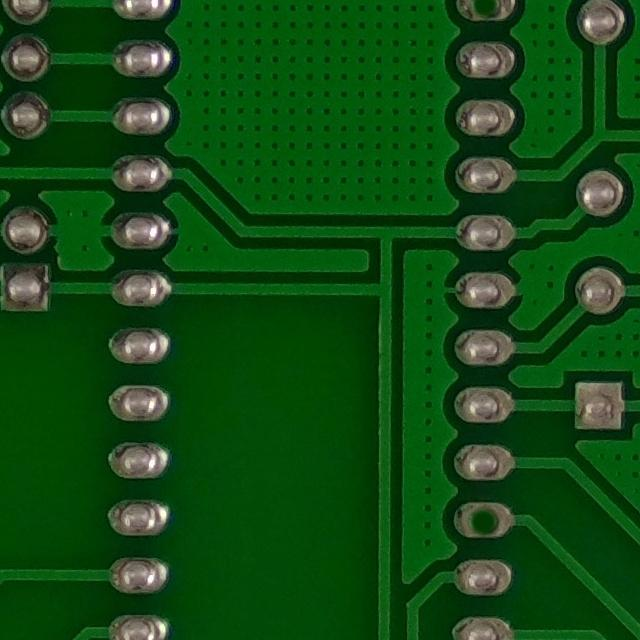missing_hole: (455, 494, 519, 547), (457, 0, 515, 32)
